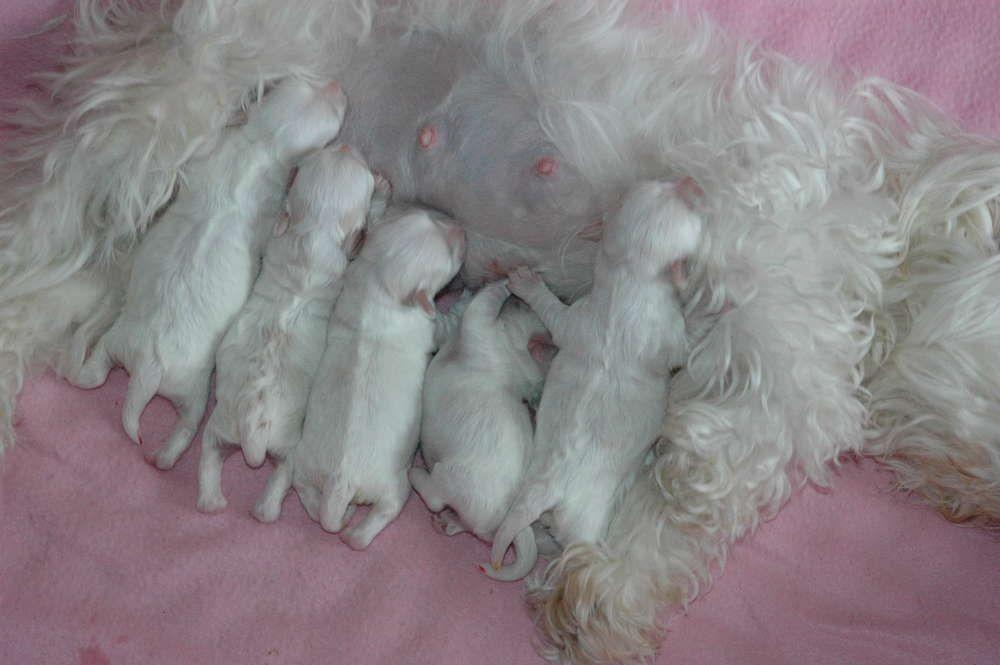adult_dog: (0, 2, 1000, 655)
puppy-dog: (50, 74, 349, 472), (486, 175, 713, 568), (249, 202, 470, 551), (191, 136, 380, 515), (410, 272, 558, 583)
